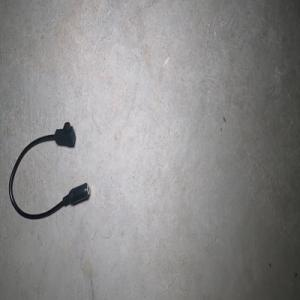Wire: (8, 121, 90, 219)
